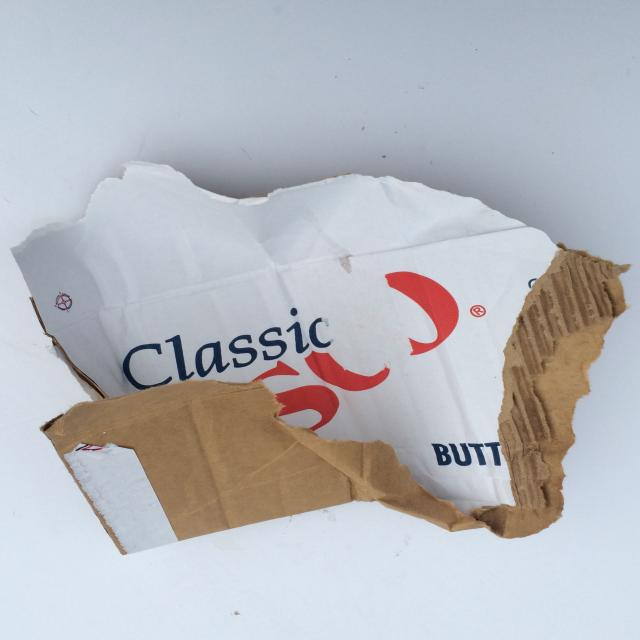cardboard: (11, 160, 630, 550)
